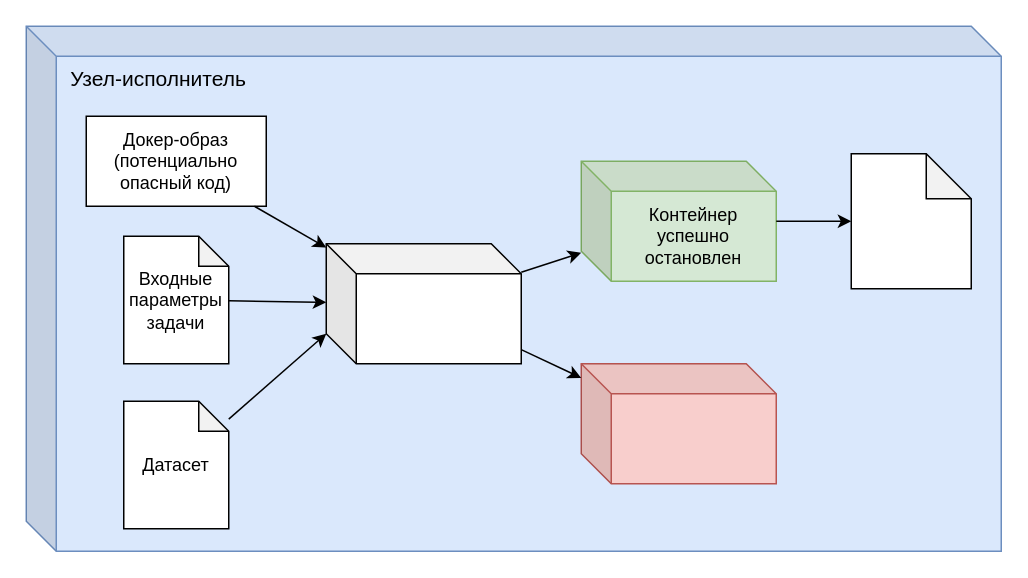
The diagram is 1028 pixels wide and 578 high, and some of its shapes have lost their labels. The shapes that lost their labels are listed below. From the top down, each one's centre as x and y in pixels, then its label:
At pixel 910 220: "Результат выполнения".
At pixel 423 303: "Докер-контейнер".
At pixel 678 423: "Контейнер разрушен".
